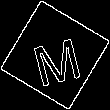M_N: (26, 25, 84, 85)
